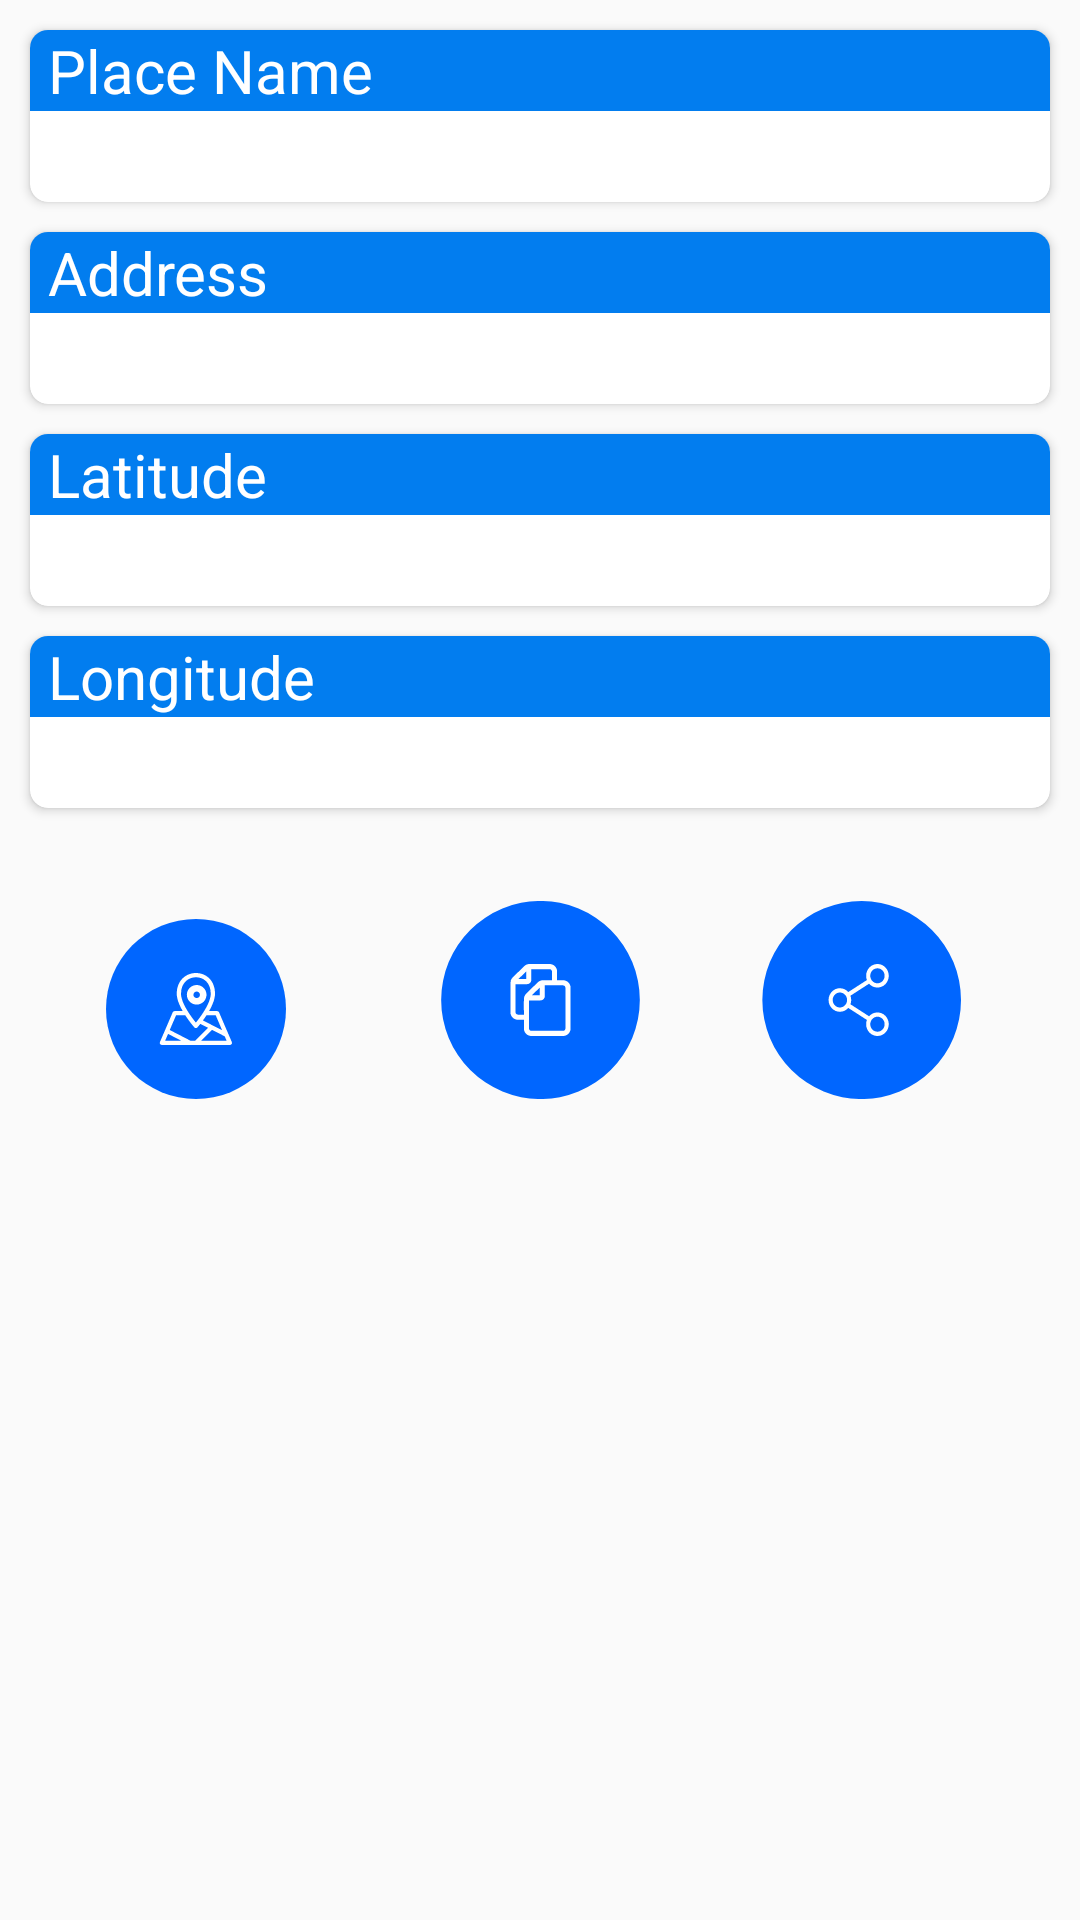

Icons on this 1080×1920 Android screen, each with its box as Rect(x1, y1, x2, y2):
copybtn: Rect(441, 901, 640, 1099)
mapbtn: Rect(106, 919, 286, 1099)
sharebtn: Rect(762, 901, 961, 1099)
